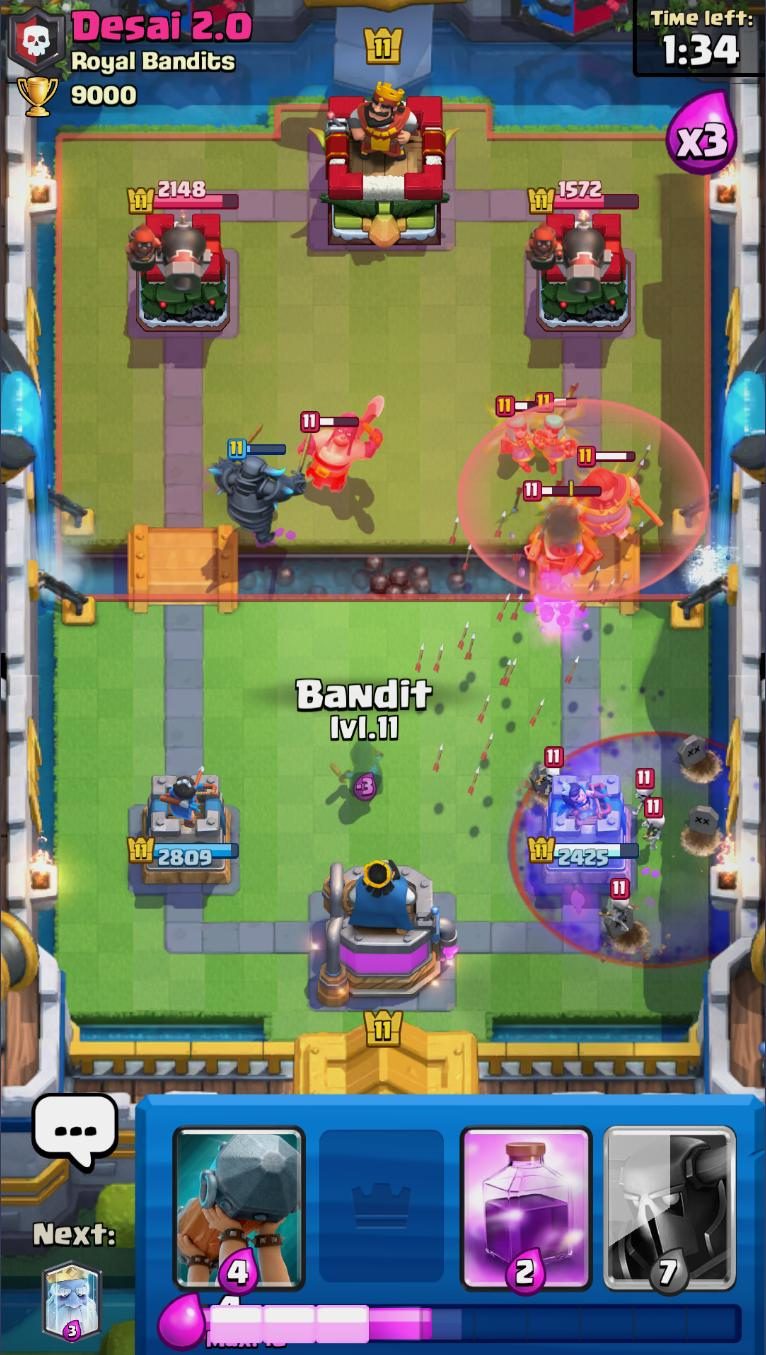Arrows: (457, 399, 709, 601)
BattleRamDeck: (168, 1094, 311, 1295)
CannonCart: (521, 479, 604, 568)
Cannoneer: (526, 212, 607, 298), (124, 214, 207, 297)
Elixir: (200, 1296, 745, 1350)
Empty: (310, 1094, 456, 1295)
EnemyTower: (524, 209, 633, 333), (125, 207, 231, 332)
Executioner: (288, 413, 360, 506)
Graveyard: (509, 731, 726, 965)
KingTower: (310, 81, 461, 249)
MyKingTower: (314, 855, 460, 1007)
MyPekka: (211, 422, 310, 543)
MyPrincessTower: (527, 770, 641, 886), (128, 773, 242, 888)
MyPrincessTowerHP: (127, 836, 240, 867), (527, 837, 640, 866)
PekkaDeck: (600, 1095, 740, 1295)
RageDeck: (456, 1095, 601, 1295)
RascalM: (567, 446, 663, 540)
RascalW: (496, 396, 541, 475), (534, 394, 579, 473)
RoyaleGhostNext: (40, 1264, 105, 1341)
Skeleton: (600, 877, 634, 934), (529, 746, 563, 799), (638, 799, 665, 850), (632, 770, 658, 814)
TowerPrincessHP: (127, 178, 240, 212), (529, 179, 641, 211)
